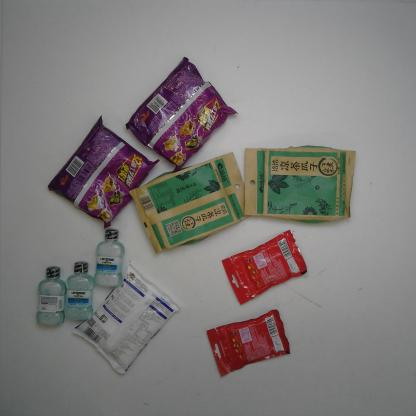Candy: (222, 230, 308, 305), (206, 309, 290, 377)
Dried Food: (128, 152, 252, 254), (244, 145, 356, 224)
Instant Noodles: (125, 57, 239, 174), (47, 114, 160, 230)
Personal Hygiene: (63, 261, 94, 321), (36, 266, 66, 326), (94, 228, 124, 288)
Seasoner: (71, 260, 181, 374)
